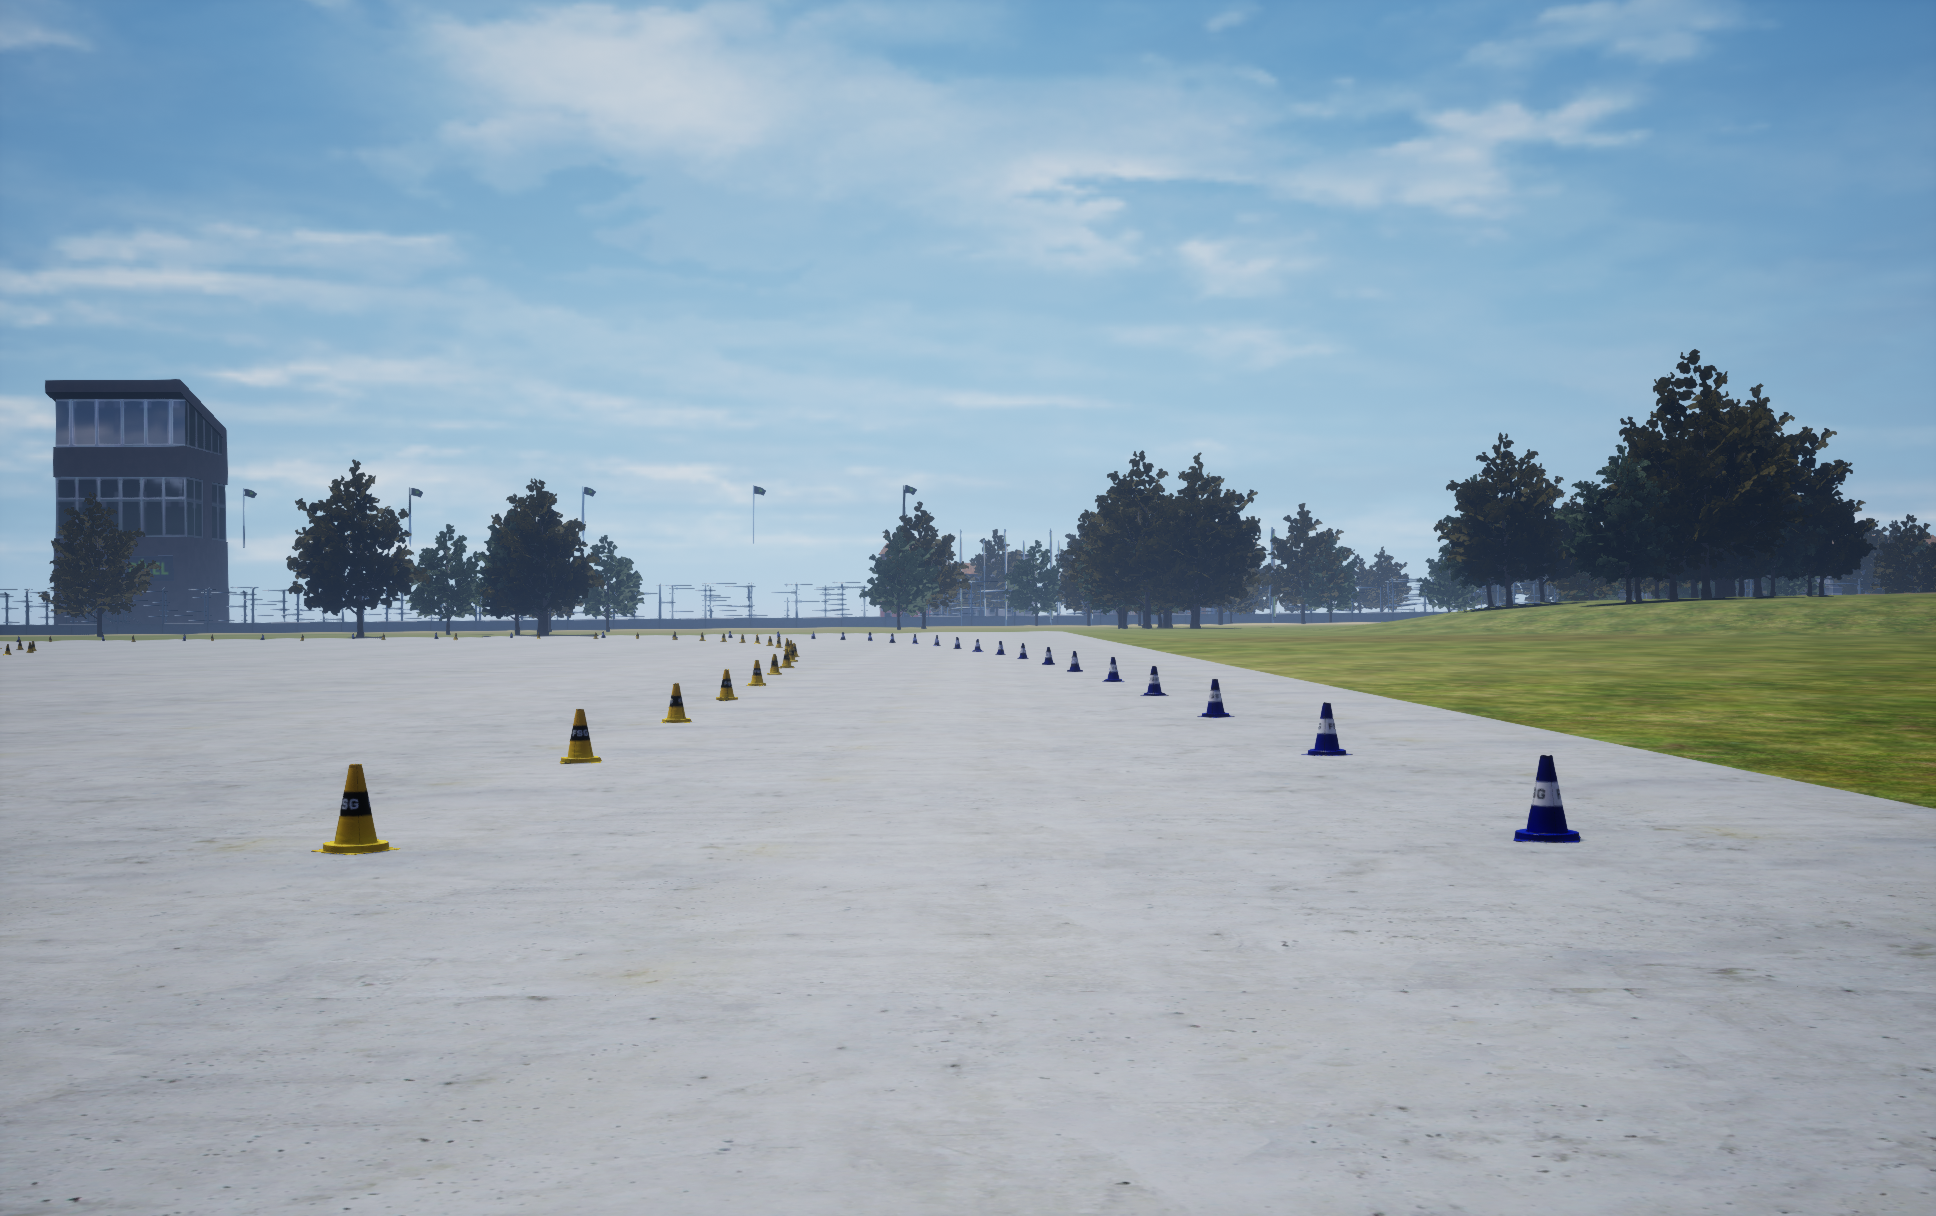blue: (311, 764, 401, 855), (560, 709, 601, 764), (661, 684, 691, 721), (716, 670, 737, 700), (747, 660, 765, 685), (779, 649, 794, 667), (768, 654, 782, 674)
yellow: (1513, 755, 1580, 842), (1301, 702, 1352, 755), (1196, 679, 1234, 717), (1140, 665, 1168, 695), (1102, 657, 1123, 681), (1067, 651, 1081, 671), (1042, 647, 1053, 664)
